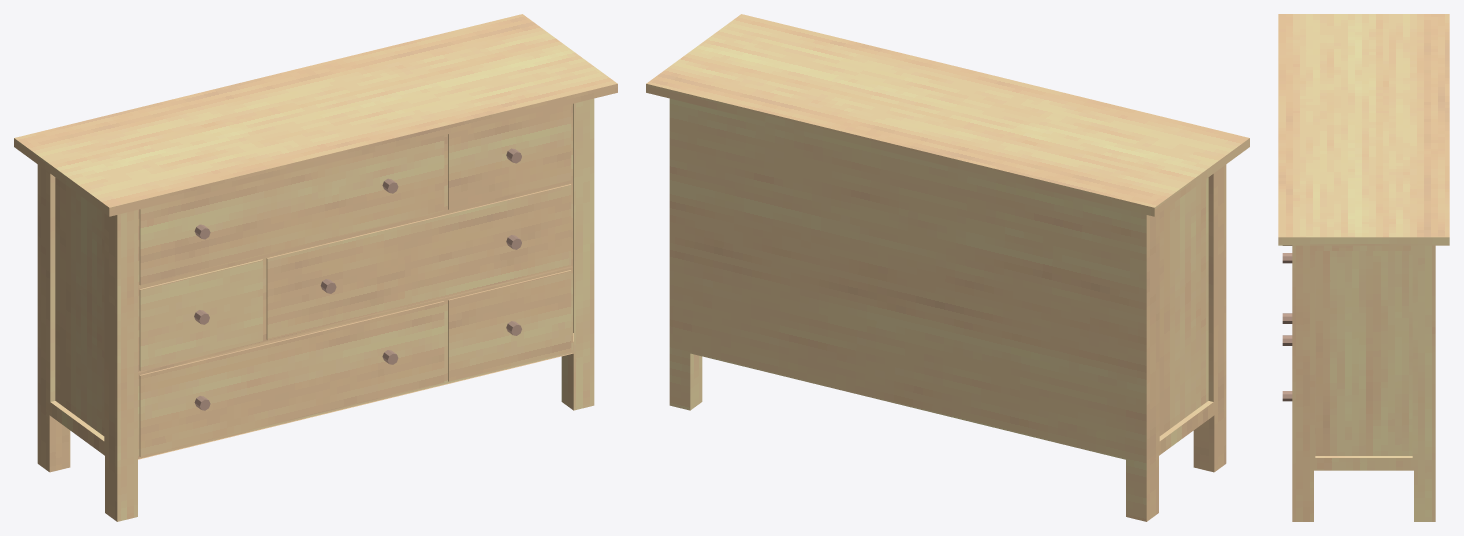
The model's file is dresser-washed.glb.
3 renders of one model, left to right at view 1: azimuth 30°, elevation 25°; view 2: azimuth 150°, elevation 25°; view 3: azimuth 270°, elevation 25°, orthographic. The views are drawn at different scales.
Parts seen in each view (by area): view 1: Dresser, Dresser.001; view 2: Dresser; view 3: Dresser, Dresser.001.
Boxes of the visible parts, left/top/right/bottom form: Dresser: left=14, top=14, right=617, bottom=521; Dresser.001: left=194, top=148, right=521, bottom=410; Dresser: left=646, top=14, right=1249, bottom=521; Dresser: left=1278, top=14, right=1449, bottom=521; Dresser.001: left=1282, top=245, right=1292, bottom=401.
Size of the model in its own units: 1.03 by 0.6256 by 0.3338.
2 materials, 2 textured.
